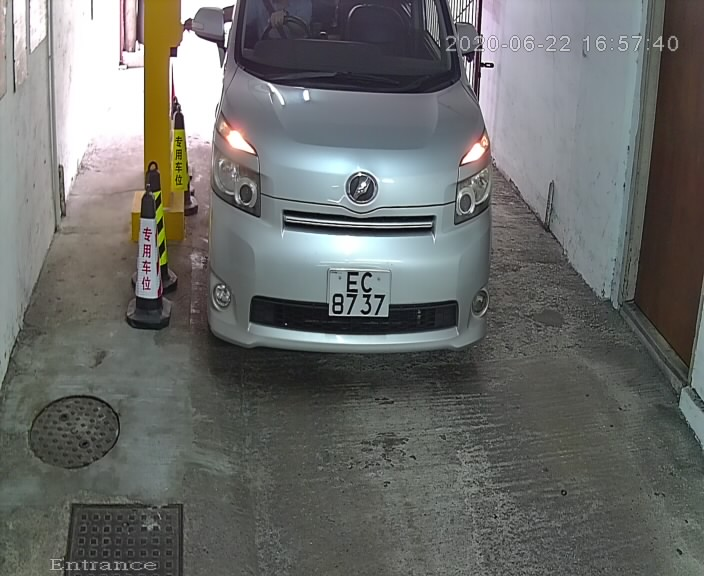privatecar: (185, 2, 507, 371)
